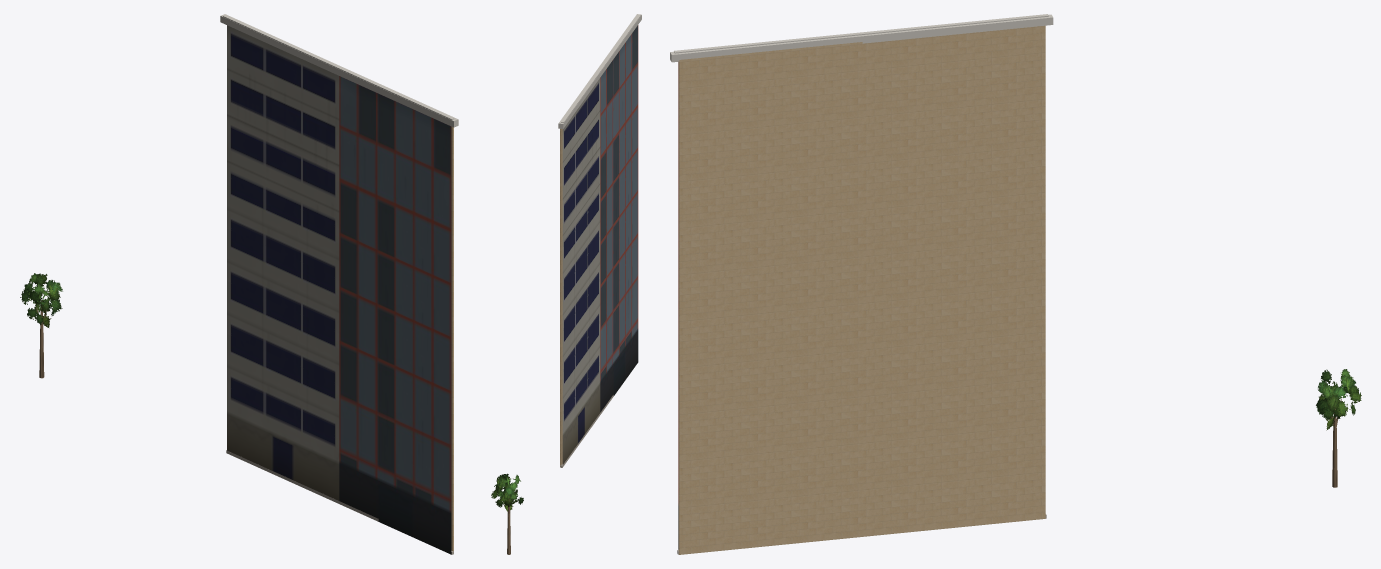
The picture shows the model from 3 angles, left to right: view 1: azimuth 30°, elevation 25°; view 2: azimuth 150°, elevation 25°; view 3: azimuth 270°, elevation 25°; orthographic projection. The views are drawn at different scales.
Parts seen in each view (by area): view 1: bldg_6004025035_facade0, tree_908; view 2: bldg_6004025035_facade0, tree_908; view 3: bldg_6004025035_facade0, tree_908.
Part boxes in pixels (bbox=[...]): bldg_6004025035_facade0: bbox=[220, 14, 458, 554]; tree_908: bbox=[20, 273, 62, 378]; bldg_6004025035_facade0: bbox=[558, 14, 641, 467]; tree_908: bbox=[491, 473, 523, 554]; bldg_6004025035_facade0: bbox=[670, 14, 1053, 554]; tree_908: bbox=[1316, 369, 1361, 487].
Bounding box in the file's own units: 9.03 × 25.95 × 32.52.
Materials: 5 (3 with a texture image).
